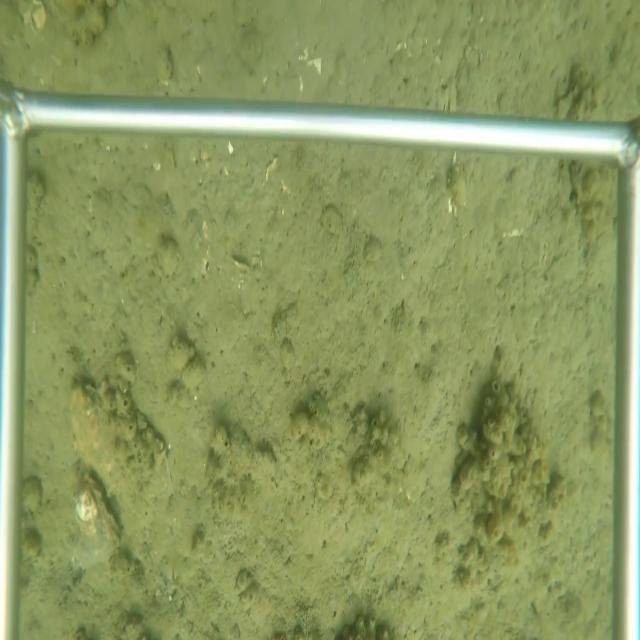Oyster-Indeterminate: (70, 380, 175, 516), (67, 460, 122, 575)
